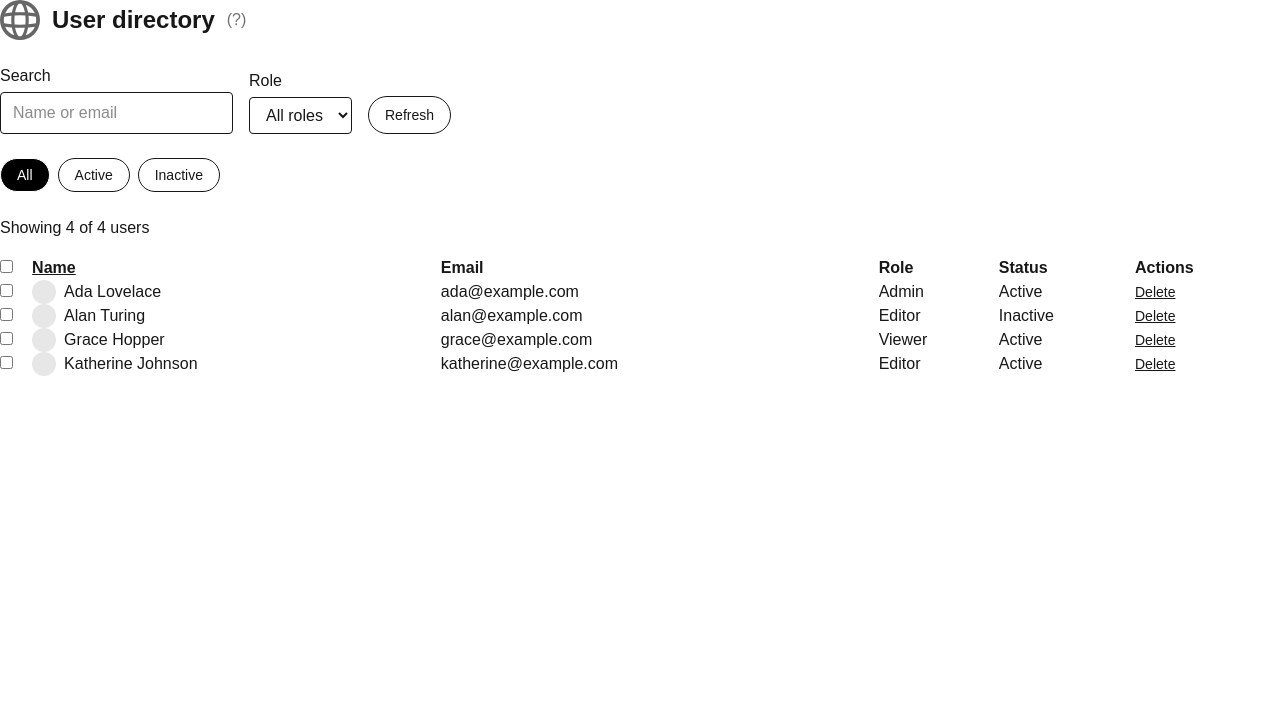
Test: delete flow › deletes every selected row in one go
The width and height of the screenshot is (1280, 720).
Click the checkbox named "Select all users": (6, 266) [0,260,13,273]
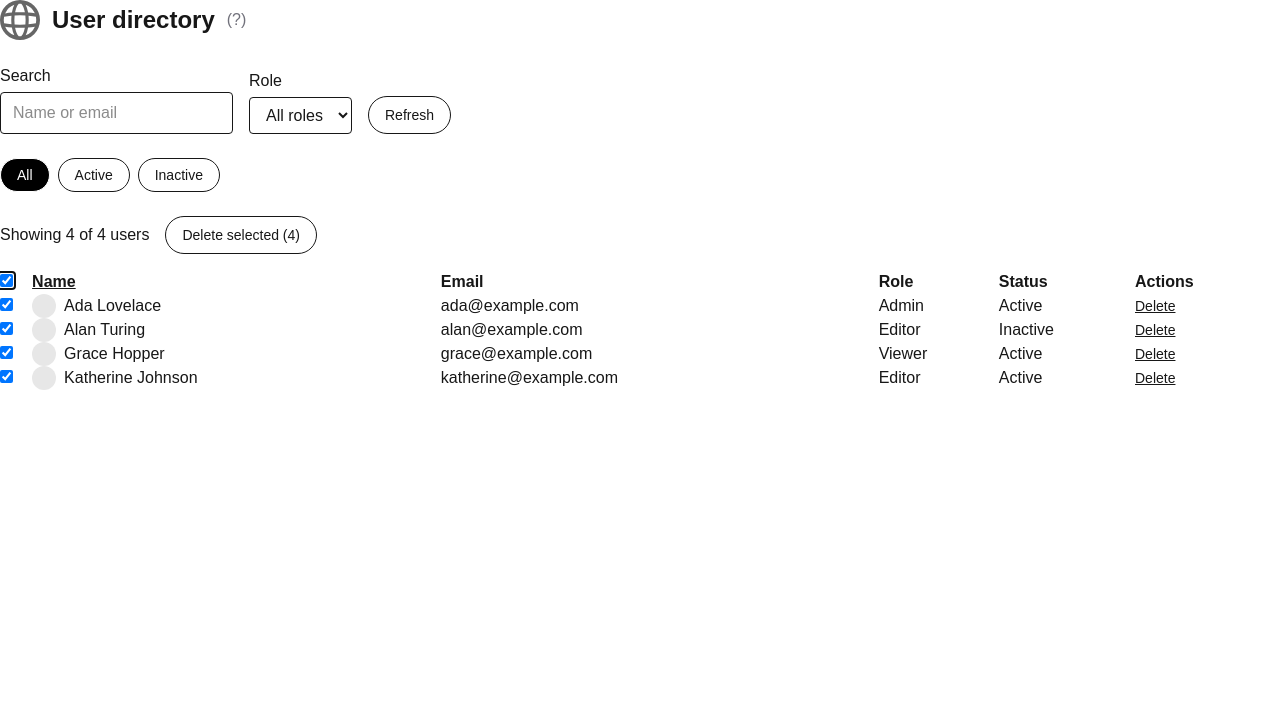
Click the button "Delete selected (4)": (241, 235) [166,216,317,254]
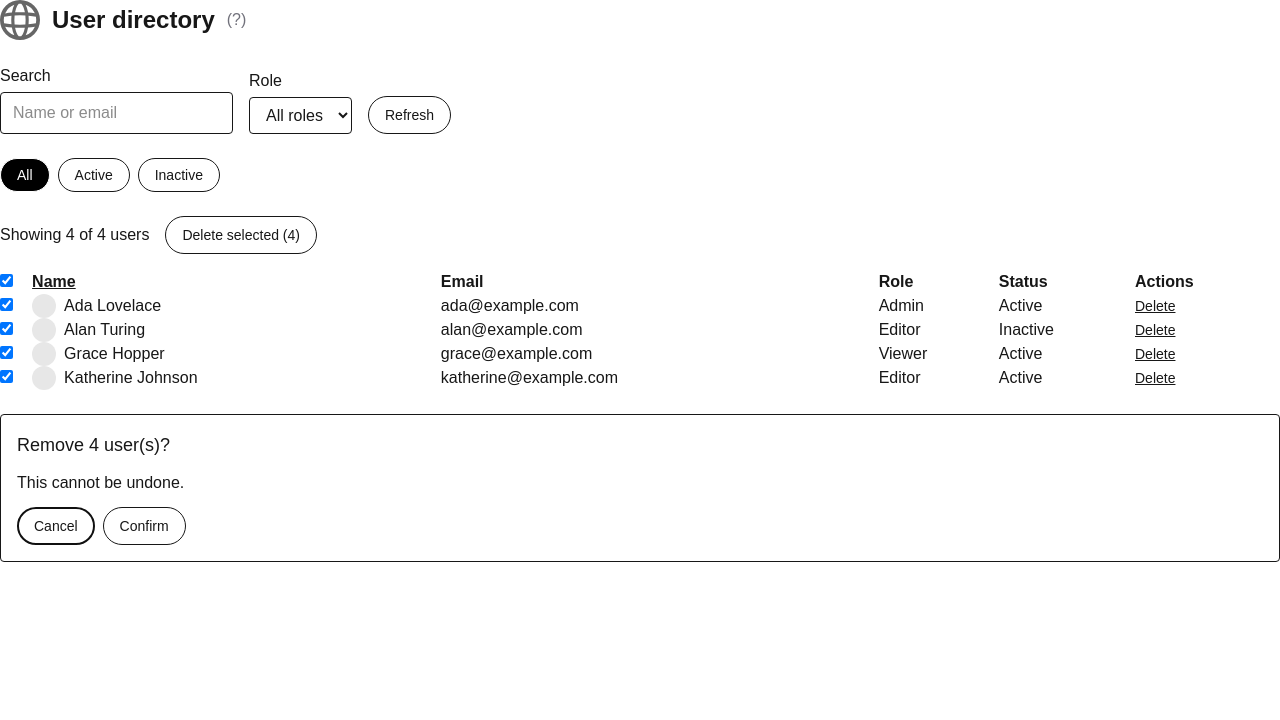
Now the dialog "Remove 4 user(s)?" is shown, box [0,414,1279,562]
Click the button "Confirm": (144, 526) [103,507,186,545]
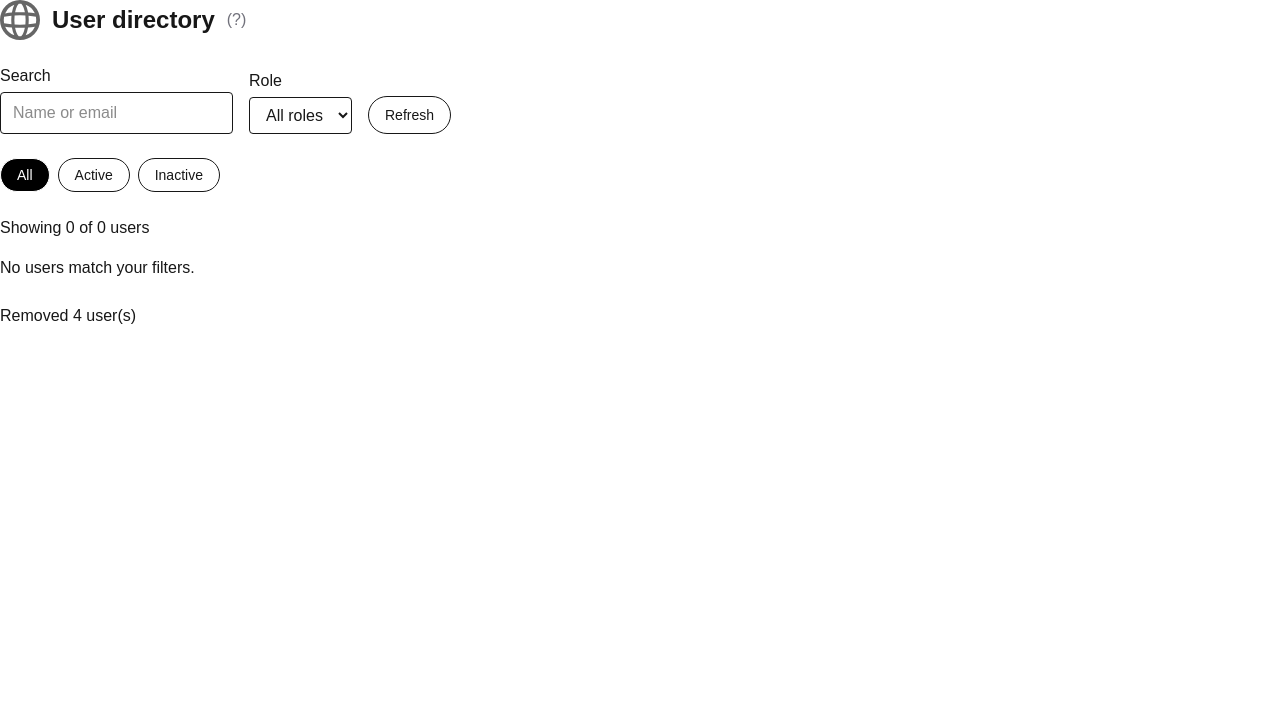
Now the dialog is gone
Now the text "No users match your filters." is shown, box [0,259,195,276]
